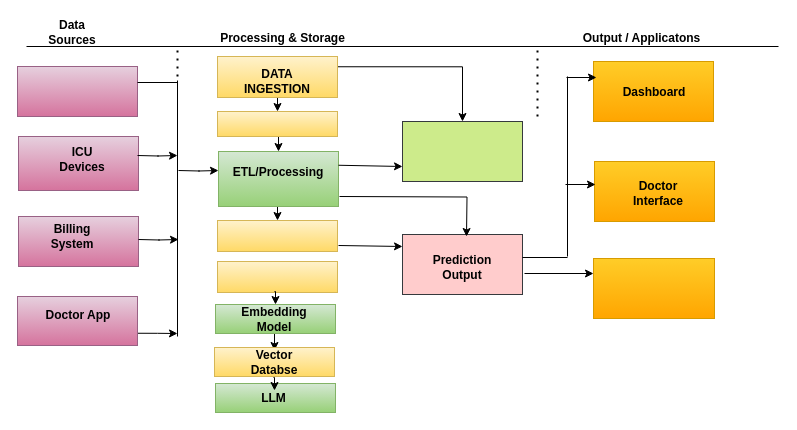
Image size: 797x430. Some labels were removed from this diagram. The shapes that lost their labels are listed below. From the top down, each one's centre as x and y in pixels, then its label:
the point at 77,91: EHR SYSTEM
the point at 277,123: Data Lake
the point at 462,151: ML MODEL
the point at 277,236: Data Warehouse
the point at 277,276: OLTP Database
the point at 653,288: Real Time Monitoring
